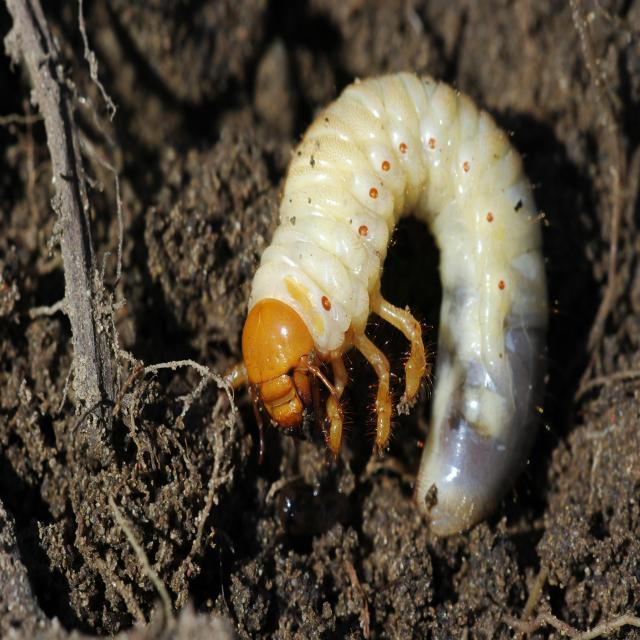Grub-Adult-: (229, 71, 561, 536)
